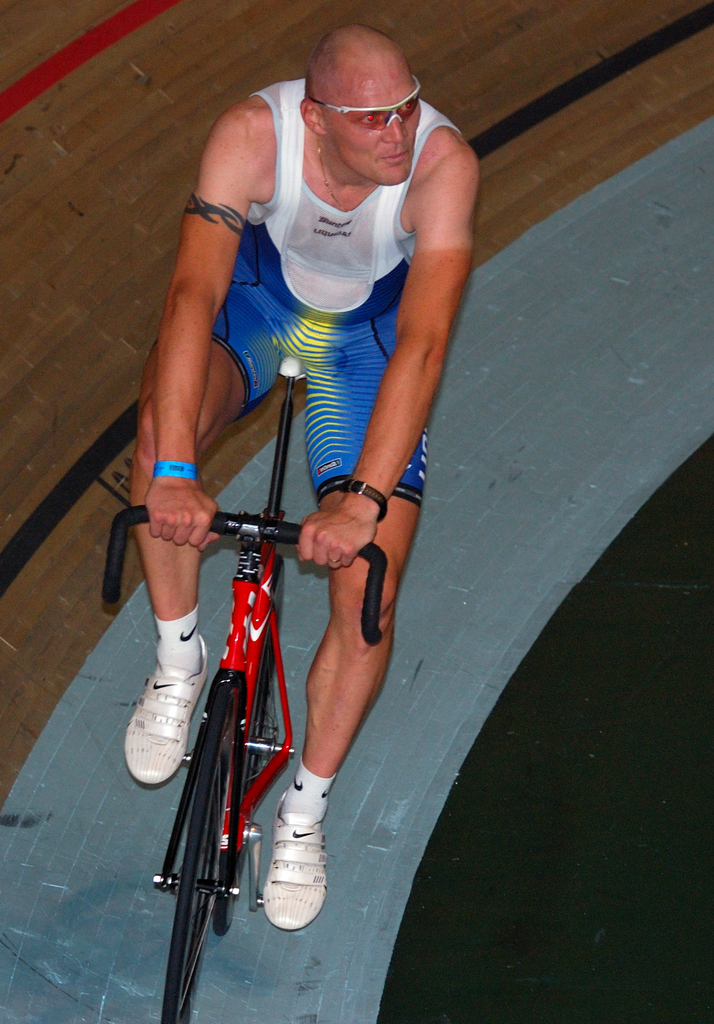Bike: (61, 450, 485, 1024)
